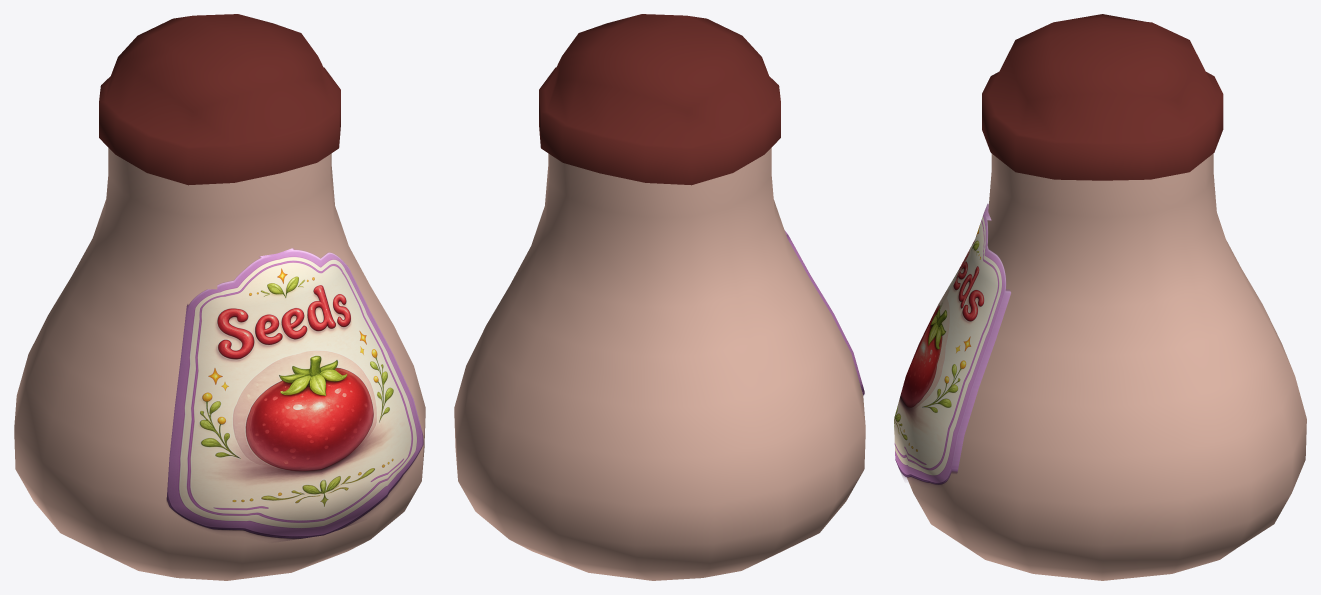
The model's file is seed_tomato.glb.
3 views of the same model, side by side, from view 1: azimuth 30°, elevation 25°; view 2: azimuth 150°, elevation 25°; view 3: azimuth 270°, elevation 25° (orthographic).
Parts seen in each view (by area): view 1: seed_tomato; view 2: seed_tomato; view 3: seed_tomato.
Boxes of the visible parts, <box> form: seed_tomato: <box>14,14,425,580</box>; seed_tomato: <box>454,14,865,580</box>; seed_tomato: <box>894,14,1306,580</box>.
Size of what is drawn, in the model's own units: 0.3161 by 0.4348 by 0.3193.
3 materials, 1 textured.
